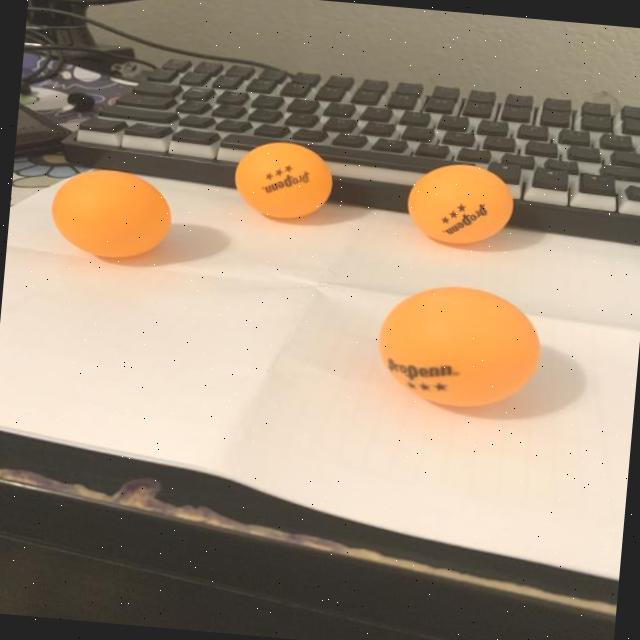ping-pong-ball: (365, 274, 551, 416), (44, 156, 180, 264), (398, 156, 523, 250), (226, 132, 338, 226)
